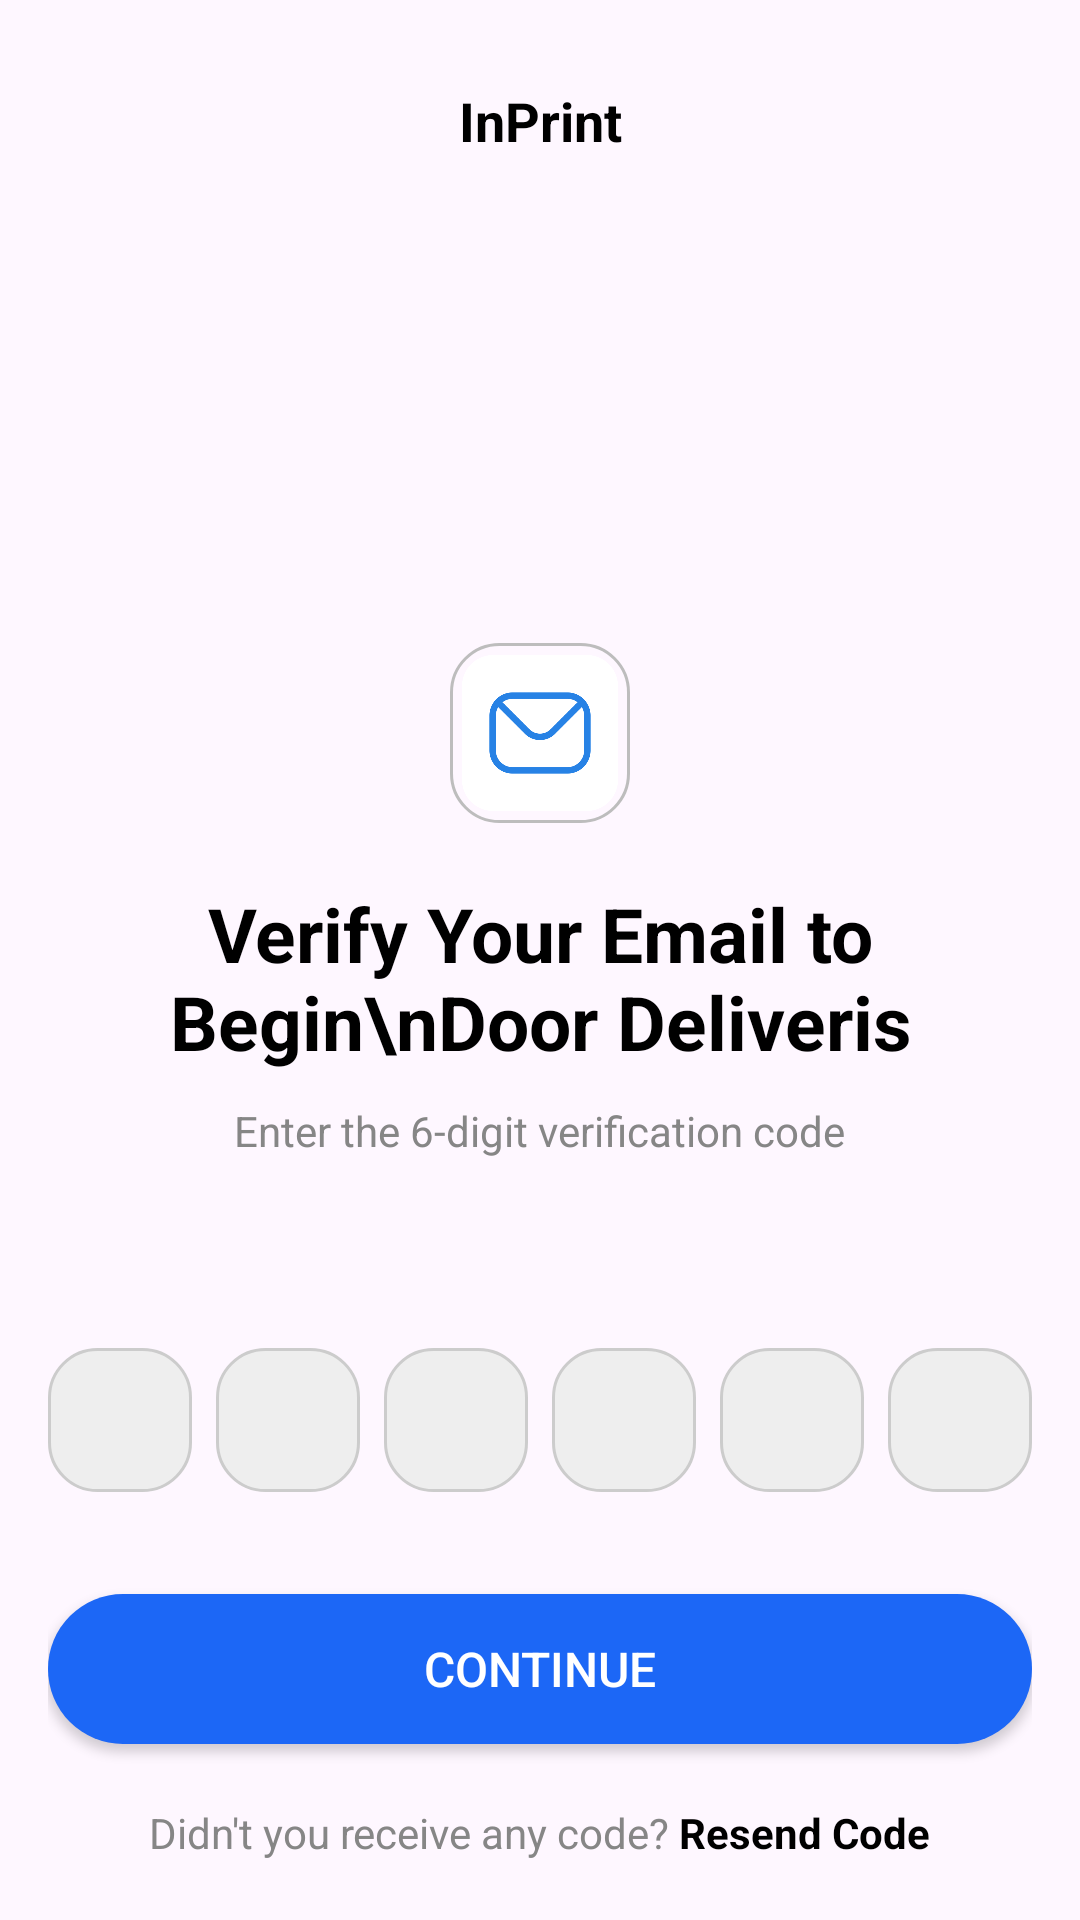

Where to tap for icons on this 1080×1920 app screen, as (x=x, y=y):
email forgot passwordl: (x=540, y=733)
